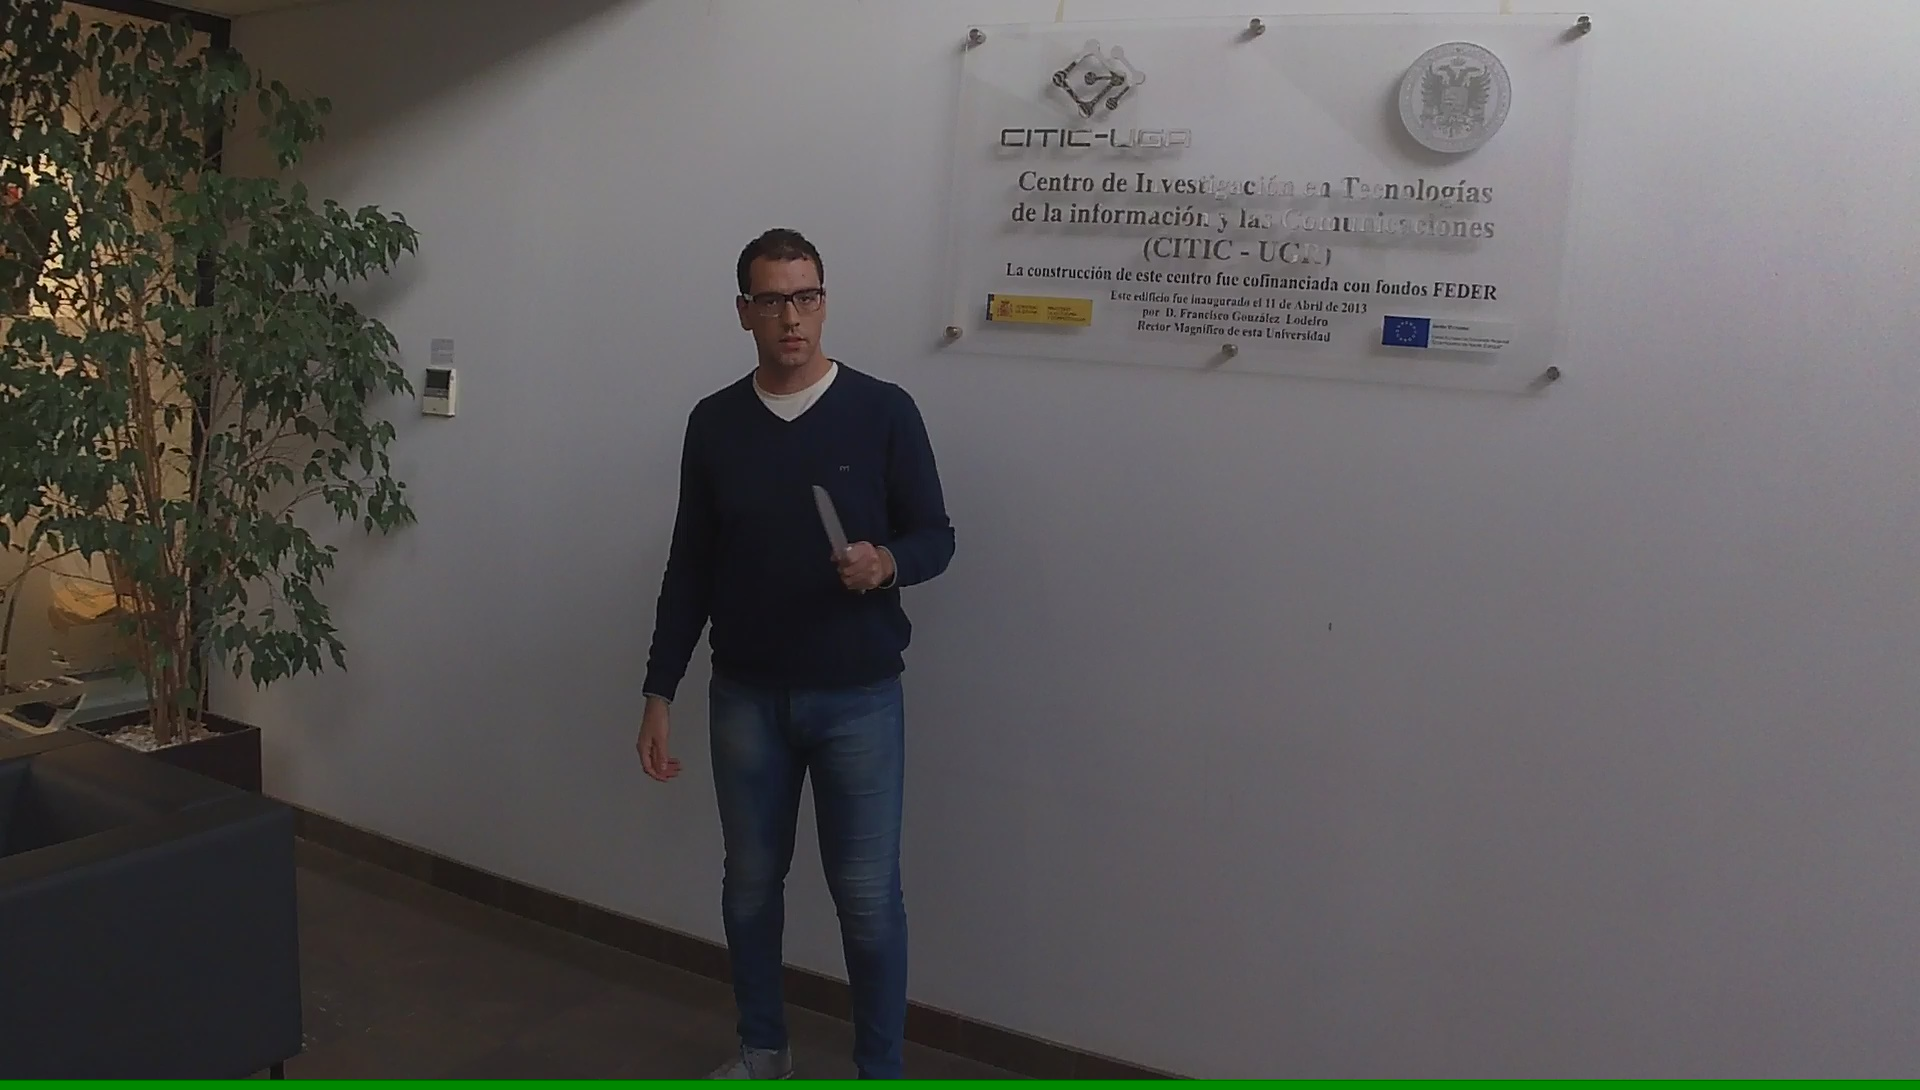knife: (806, 476, 870, 600)
